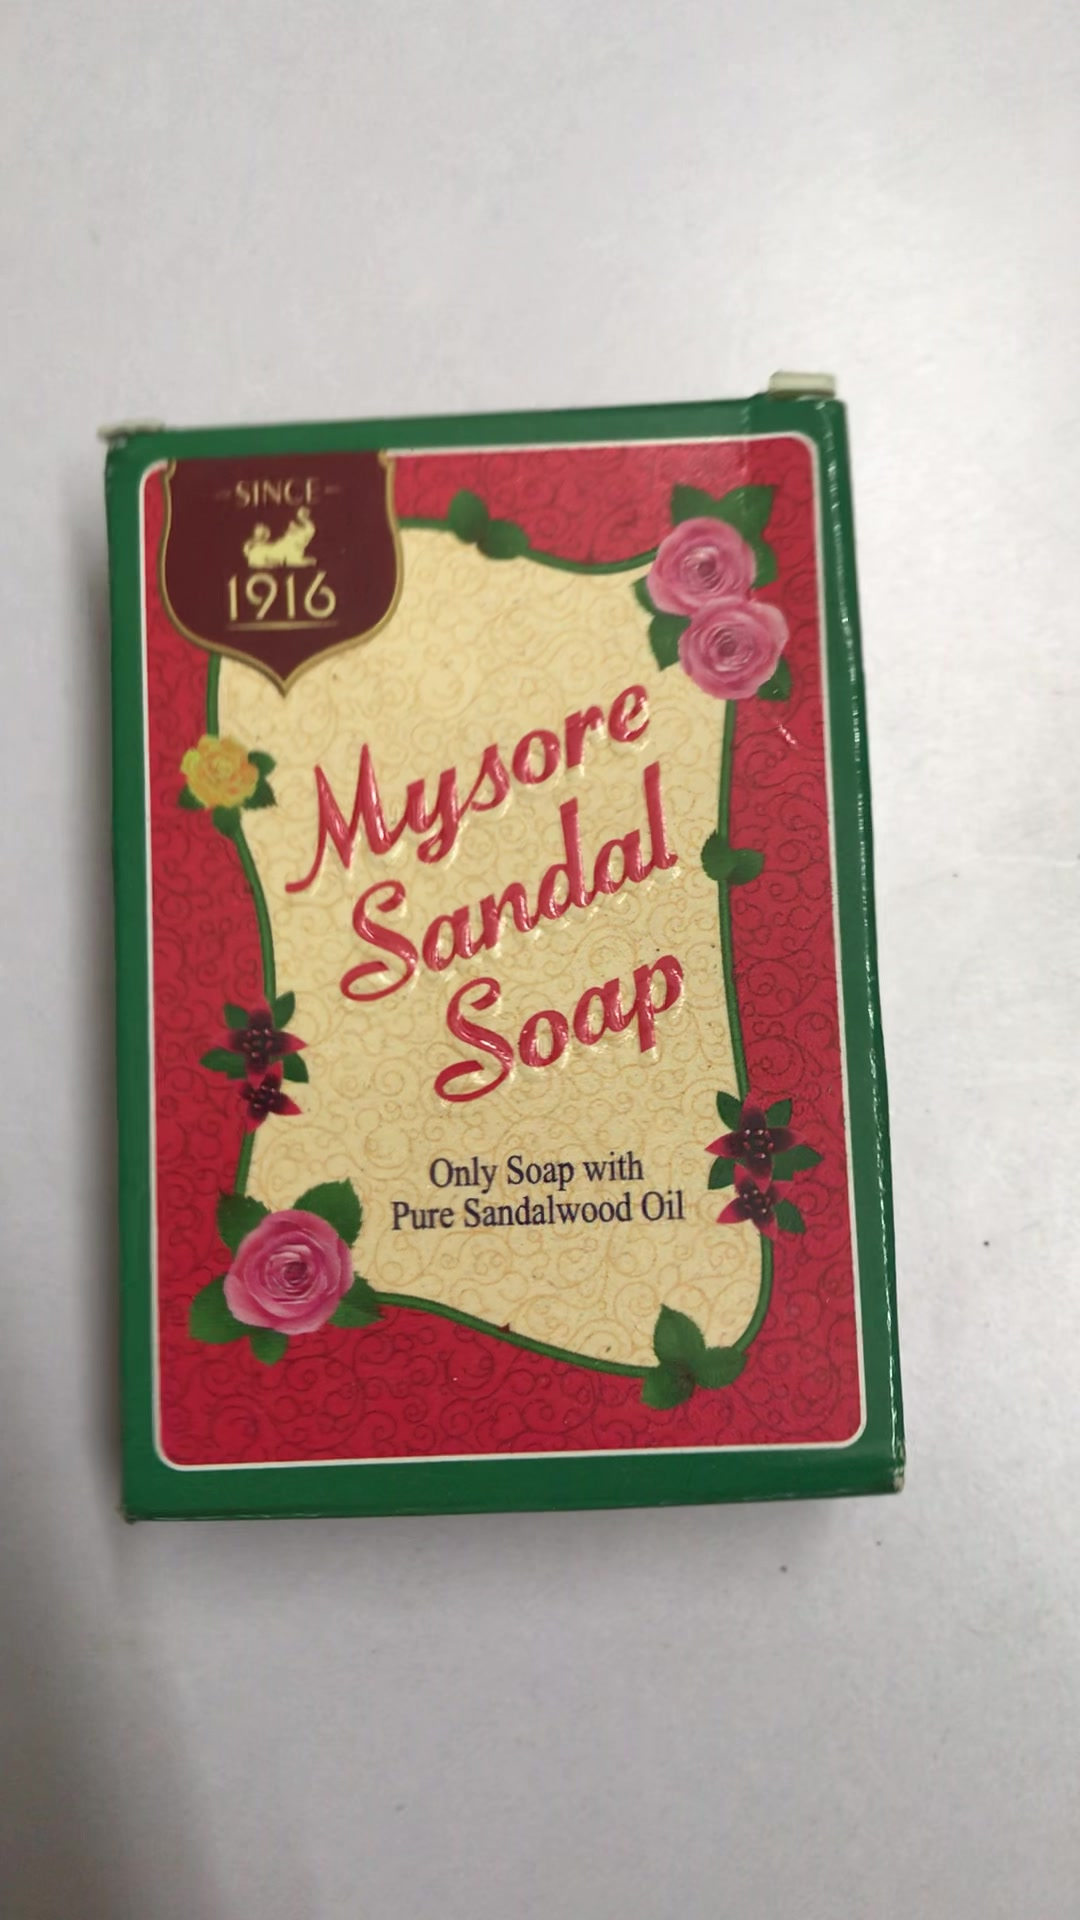mysore sandal soap: (103, 398, 907, 1524)
